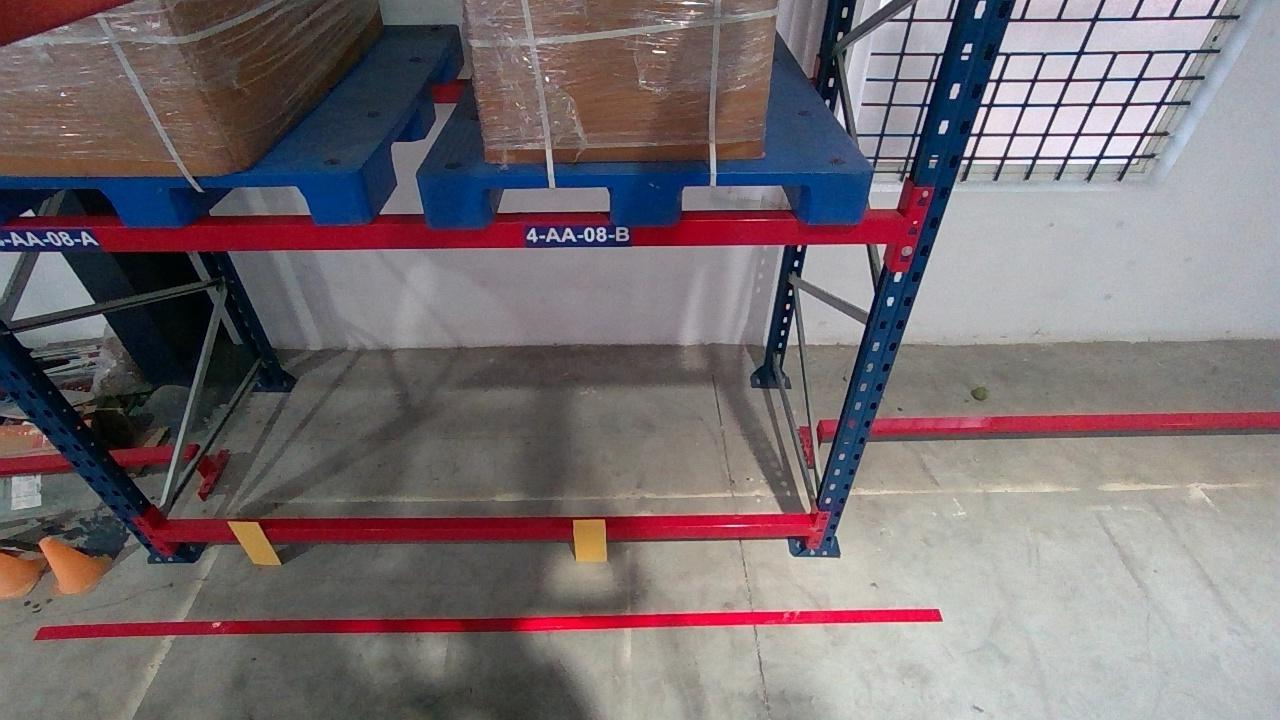h_rack: (3, 217, 908, 250), (157, 523, 815, 543)
orange_strip: (226, 521, 283, 565), (571, 518, 607, 561)
red_line: (30, 609, 939, 635)
small_pallet: (418, 169, 872, 221), (0, 173, 369, 225)
